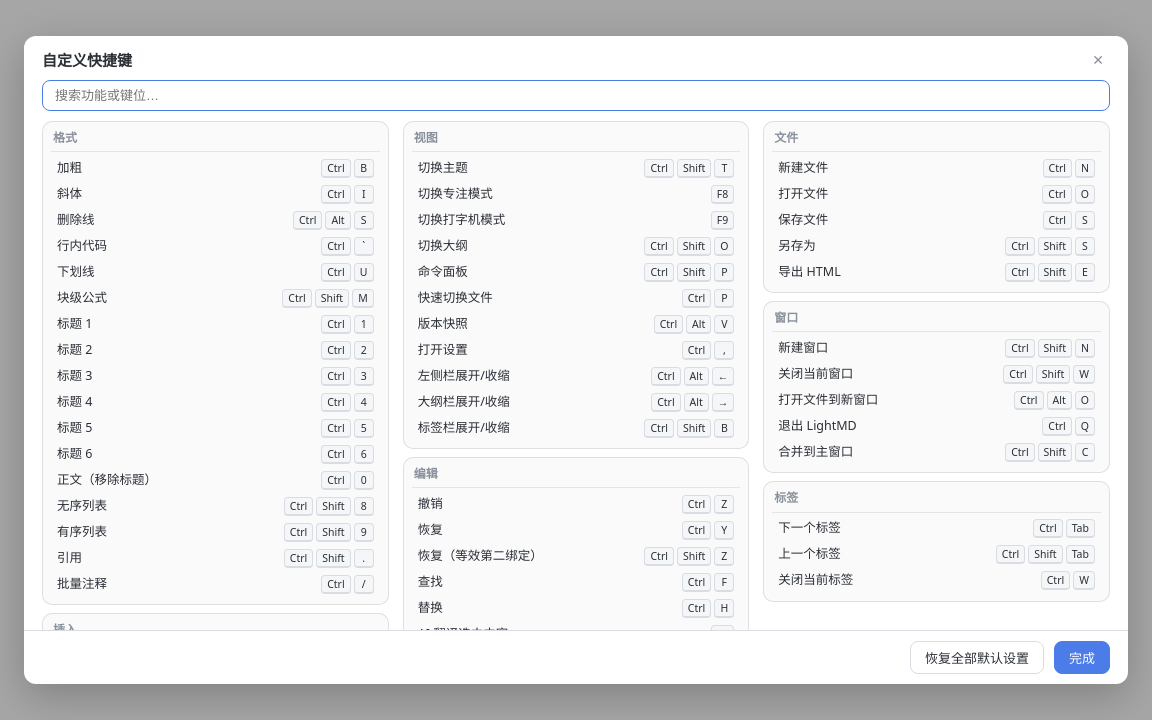
Test: v0.9.0 ShortcutSettingsDialog：渲染与搜索（A2） › 搜索框按功能名过滤
This screenshot has width=1152, height=720.
Type "删除线" into the field with class "shortcut-settings-search" at (576, 96), box [42, 80, 1110, 111]
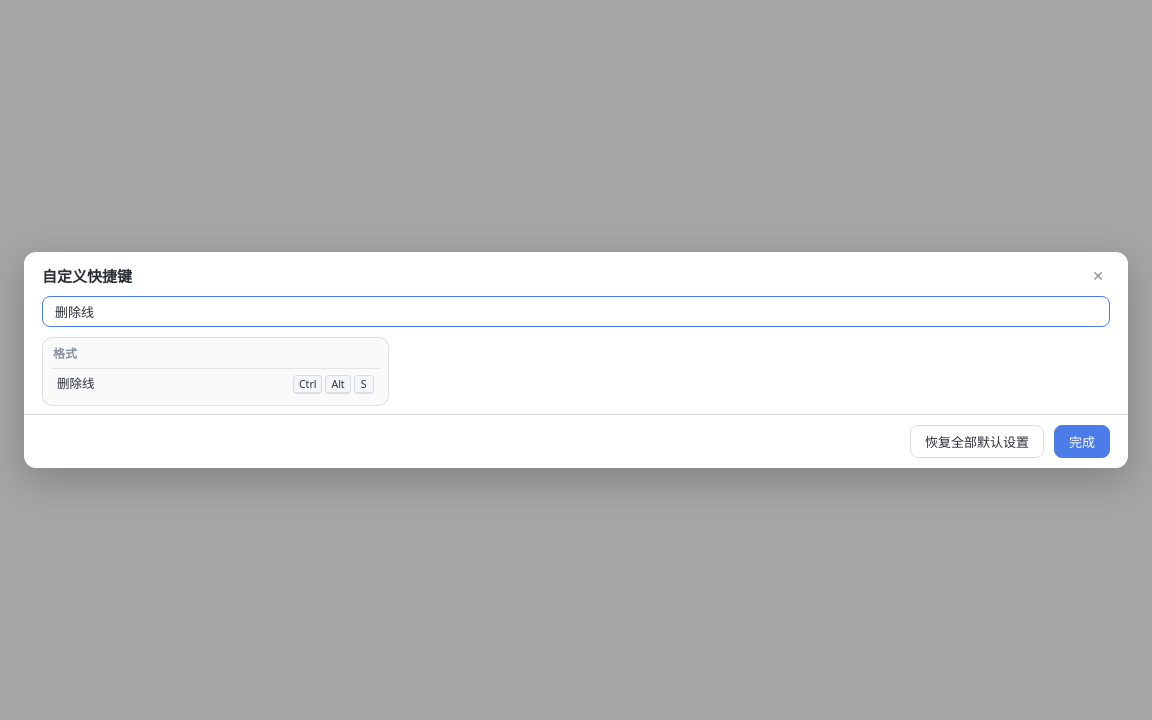
Expected: the text "删除线" is shown, [57, 375, 94, 392]
Expected: the number of buttons with class "shortcut-settings-row" is 1, [51, 372, 380, 398]
